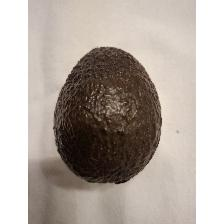Avocado: (49, 40, 165, 188)
